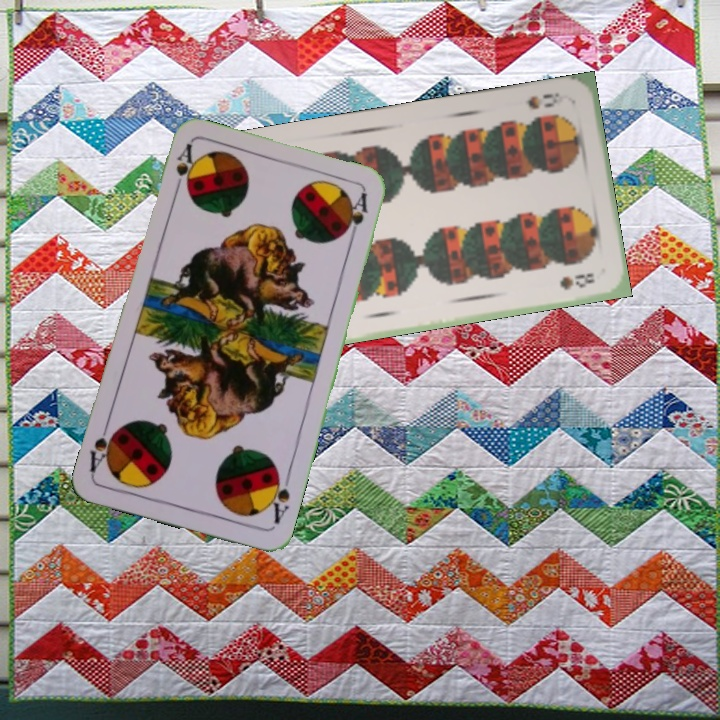S8: (524, 88, 572, 112)
SA: (263, 468, 293, 527), (170, 140, 198, 198)
